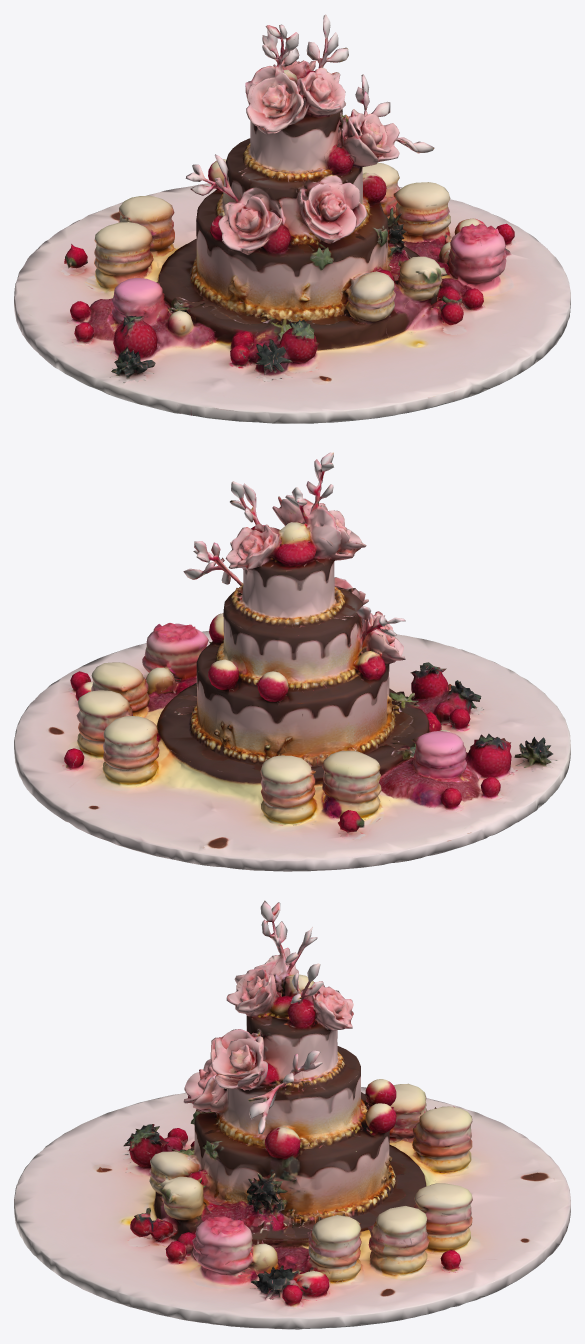
The model's file is Dessert.glb.
The picture shows the model from 3 angles, top to bottom: view 1: azimuth 30°, elevation 25°; view 2: azimuth 150°, elevation 25°; view 3: azimuth 270°, elevation 25°; orthographic projection.
Size of the model in its own units: 1.92 by 1.14 by 1.92.
1 material, 1 textured.
